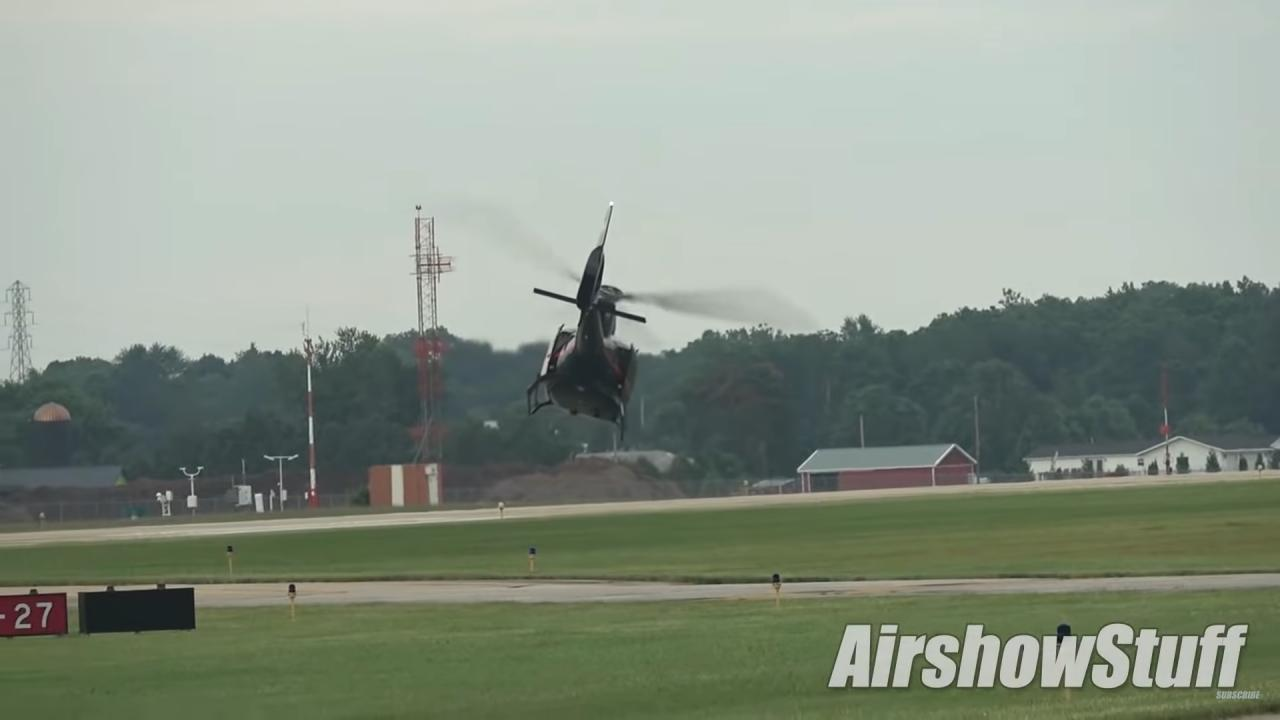Helicopter: (463, 183, 814, 455)
